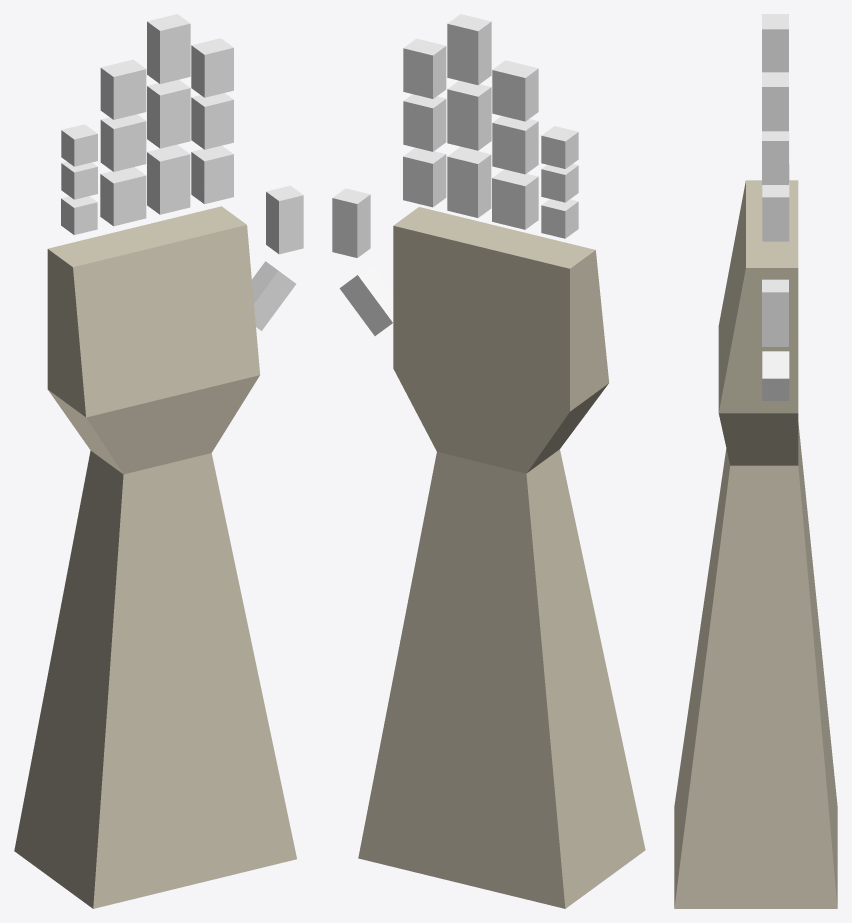
File: RArm.glb
3 renders of one model, left to right at view 1: azimuth 30°, elevation 25°; view 2: azimuth 150°, elevation 25°; view 3: azimuth 270°, elevation 25°, orthographic. The views are drawn at different scales.
Visible parts, largest first — view 1: arm, m1, m3, m2, r3, r1, r2, t2, i3, i1, i2, t1 (+3 smaller); view 2: arm, m3, m1, m2, r3, r1, t2, r2, i3, i1, i2, t1 (+3 smaller); view 3: arm, t2, i3, i1, m3, i2, t1.
Boxes of the visible parts, bbox=[...] form: arm: bbox=[14, 206, 296, 908]; m1: bbox=[147, 144, 190, 214]; m3: bbox=[147, 14, 190, 83]; m2: bbox=[147, 79, 190, 148]; r3: bbox=[100, 59, 146, 119]; r1: bbox=[100, 167, 146, 226]; r2: bbox=[100, 114, 146, 171]; t2: bbox=[266, 185, 303, 254]; i3: bbox=[191, 38, 233, 97]; i1: bbox=[191, 145, 233, 204]; i2: bbox=[191, 93, 233, 149]; t1: bbox=[252, 261, 295, 330]; arm: bbox=[358, 207, 645, 908]; m3: bbox=[447, 14, 491, 84]; m1: bbox=[447, 147, 491, 217]; m2: bbox=[447, 80, 491, 150]; r3: bbox=[492, 60, 538, 121]; r1: bbox=[492, 169, 538, 229]; t2: bbox=[332, 188, 370, 257]; r2: bbox=[492, 116, 538, 174]; i3: bbox=[403, 38, 446, 98]; i1: bbox=[403, 147, 446, 207]; i2: bbox=[403, 94, 446, 151]; t1: bbox=[339, 265, 393, 335]; arm: bbox=[674, 180, 837, 908]; t2: bbox=[762, 279, 788, 346]; i3: bbox=[762, 72, 788, 131]; i1: bbox=[762, 182, 789, 241]; m3: bbox=[762, 14, 788, 72]; i2: bbox=[762, 131, 788, 184]; t1: bbox=[762, 351, 789, 400].
Size of the model in its own units: 1.31 by 4.07 by 0.7103.
